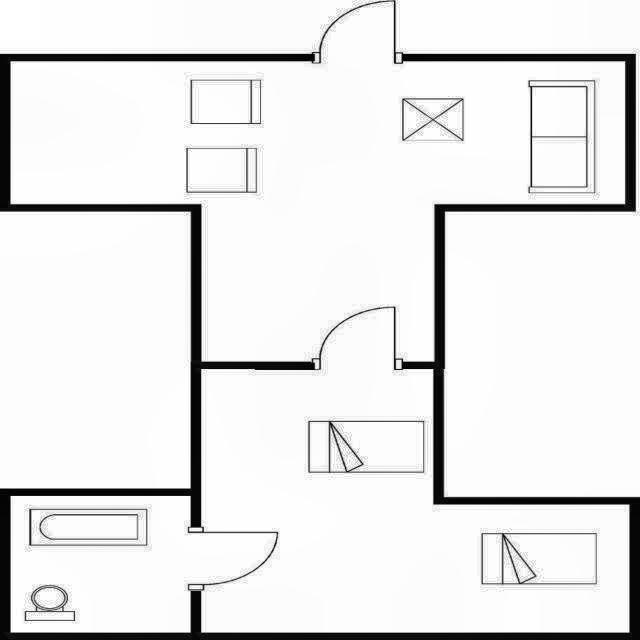room: (10, 61, 625, 362), (201, 369, 630, 633), (10, 496, 191, 632)
